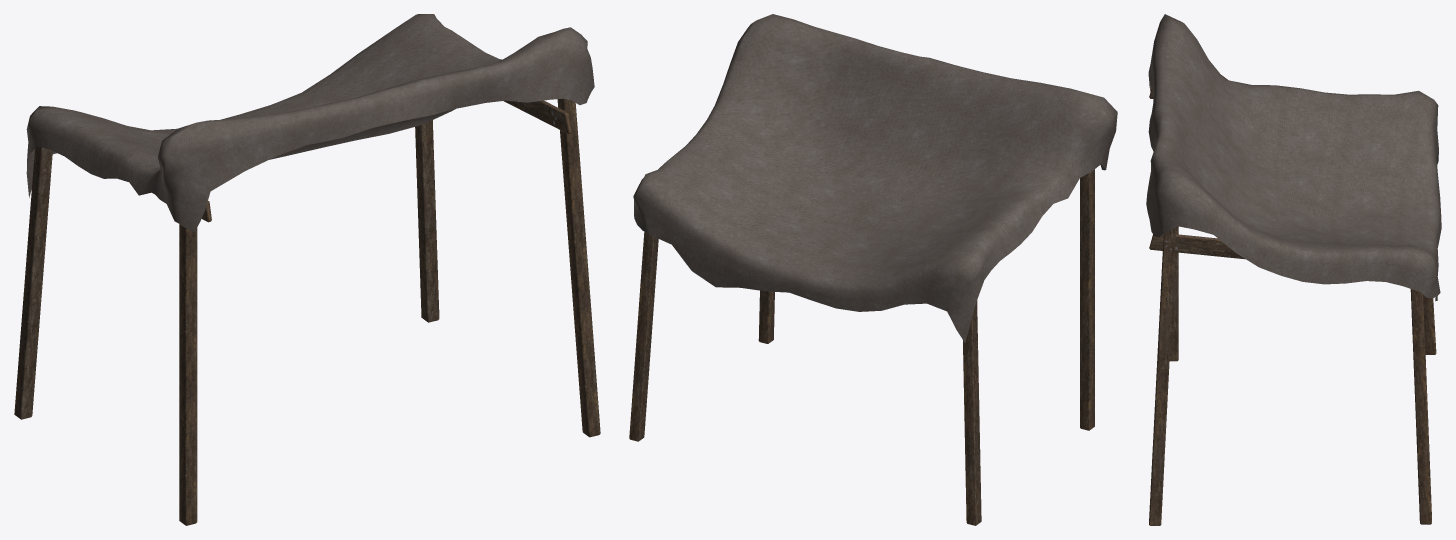
File: MarketStall1.fbx
The picture shows the model from 3 angles, left to right: view 1: azimuth 30°, elevation 25°; view 2: azimuth 150°, elevation 25°; view 3: azimuth 270°, elevation 25°; orthographic projection. The views are drawn at different scales.
Visible parts, largest first — view 1: MarketStallMesh2; view 2: MarketStallMesh2; view 3: MarketStallMesh2.
Boxes of the visible parts, left/top/right/bottom form: MarketStallMesh2: left=14, top=14, right=600, bottom=525; MarketStallMesh2: left=629, top=14, right=1117, bottom=525; MarketStallMesh2: left=1146, top=14, right=1441, bottom=525.
Bounding box in the file's own units: 532 × 465 × 363.
